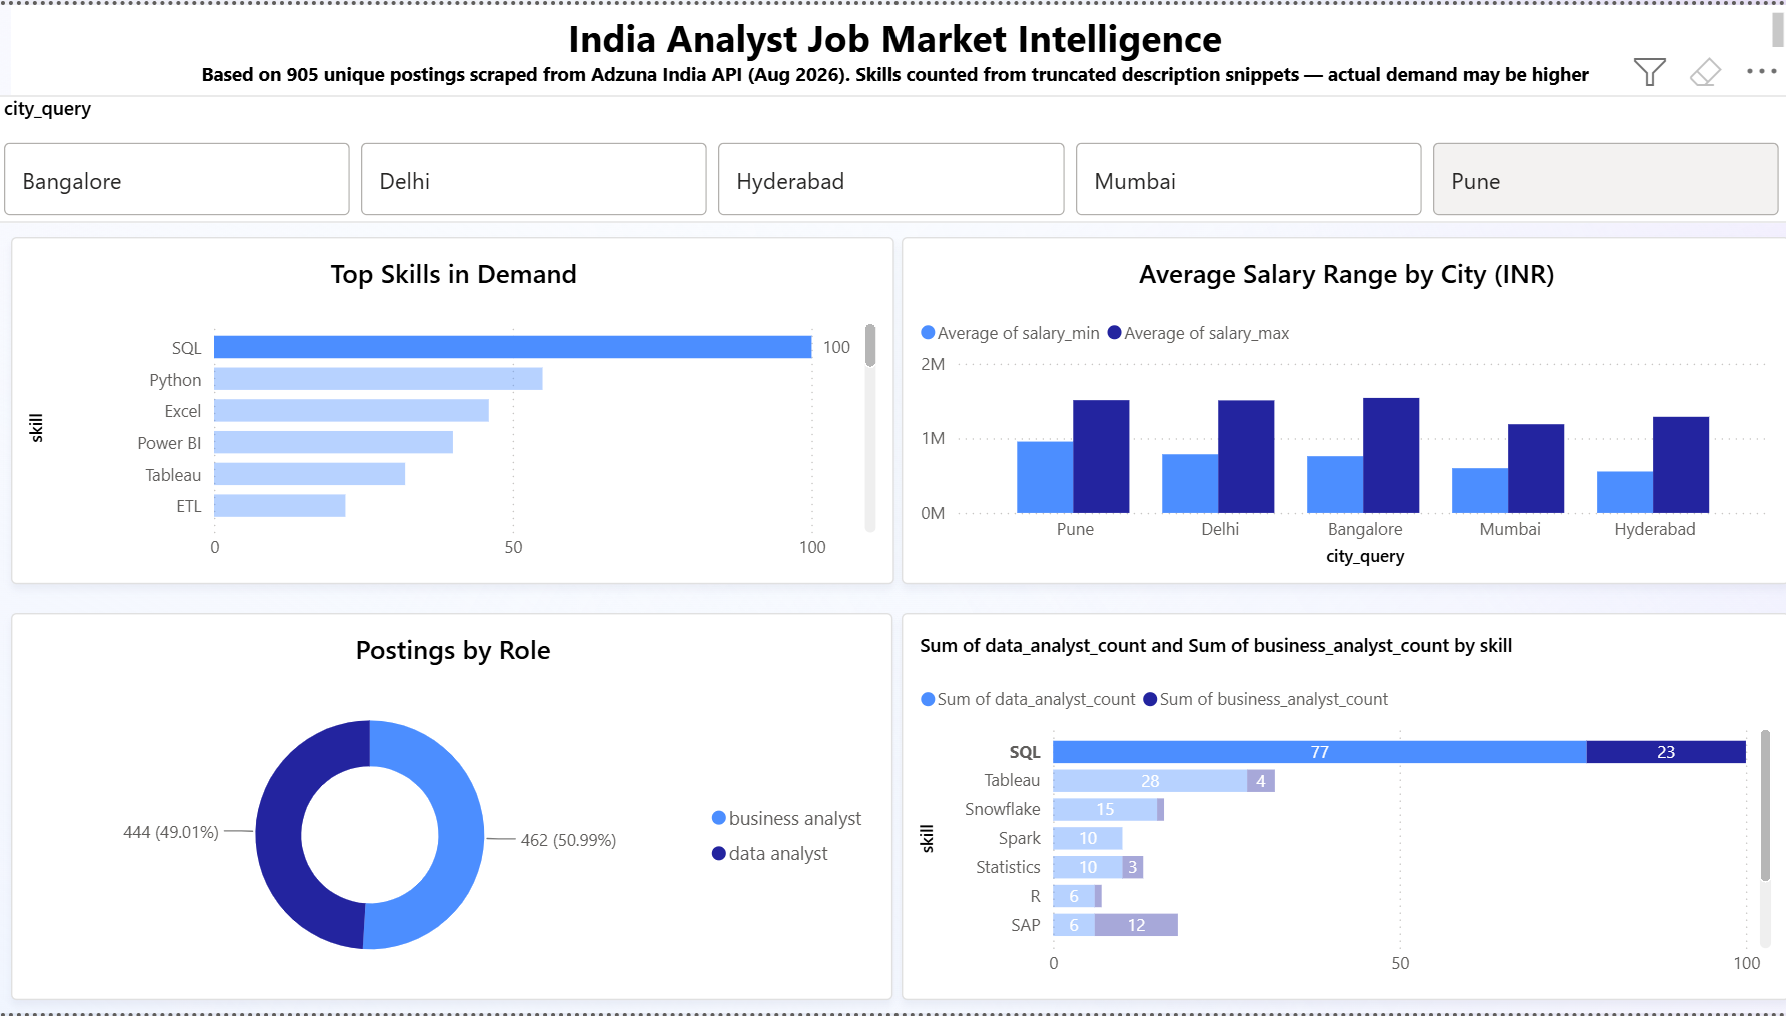

The page's visual inventory and layout, read from the dashboard file:
{"tool":"powerbi","page":{"name":"Page 1","canvas":[1280,720],"ordinal":0},"visuals":[{"type":"textbox","box":[9.6,0,1270.4,64.5],"z":0},{"type":"clusteredBarChart","title":"Top Skills in Demand","fields":{"Y":["Sum(skill_counts.posting_count)"],"Category":["skill_counts.skill"]},"box":[9.5,166.1,630.7,248.1],"z":1},{"type":"donutChart","title":"Postings by Role","fields":{"Category":["postings_flat.title_bucket"],"Y":["CountNonNull(postings_flat.title)"]},"box":[10.5,434.1,629.6,276.4],"z":2},{"type":"clusteredColumnChart","title":"Average Salary Range by City (INR)","fields":{"Category":["postings_flat.city_query"],"Y":["Avg(postings_flat.salary_min)","Avg(postings_flat.salary_max)"]},"box":[646.4,166.1,633.8,248.1],"z":3},{"type":"barChart","fields":{"Category":["skill_counts.skill"],"Y":["Sum(skill_counts.data_analyst_count)","Sum(skill_counts.business_analyst_count)"]},"box":[646.4,434.1,633.8,276.4],"z":4},{"type":"advancedSlicerVisual","fields":{"Values":["postings_flat.city_query"]},"box":[0,64.1,1279.2,91.4],"z":5}]}

Visuals, with their boxes in screenshot pixels (x1, y1, x2, y2), scaled from the page's 1280x720 canvas onto the 1786x1016 screenshot:
textbox: (left=13, top=0, right=1785, bottom=91)
"Top Skills in Demand" clusteredBarChart: (left=13, top=234, right=893, bottom=584)
"Postings by Role" donutChart: (left=15, top=613, right=893, bottom=1003)
"Average Salary Range by City (INR)" clusteredColumnChart: (left=902, top=234, right=1785, bottom=584)
barChart - skill_counts.skill x Sum(skill_counts.data_analyst_count): (left=902, top=613, right=1785, bottom=1003)
advancedSlicerVisual - postings_flat.city_query: (left=0, top=90, right=1785, bottom=219)
